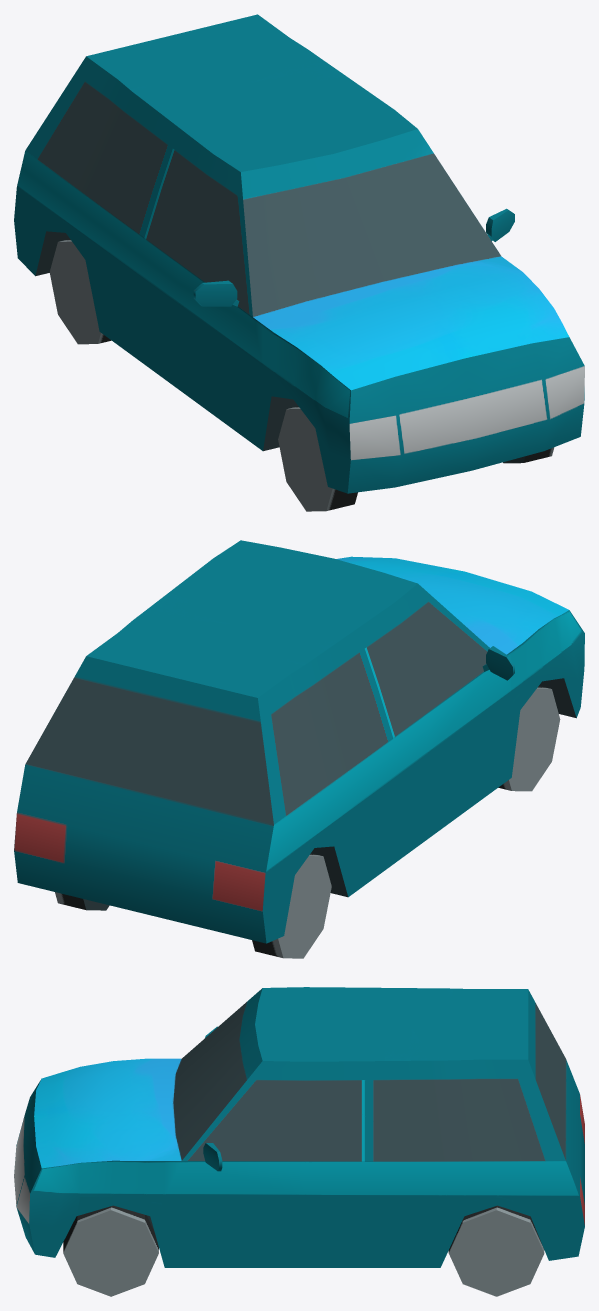
Rendered from BlueCar.fbx.
3 views of the same model, one above another, from view 1: azimuth 30°, elevation 25°; view 2: azimuth 150°, elevation 25°; view 3: azimuth 270°, elevation 25° (orthographic). The views are drawn at different scales.
Visible parts, largest first — view 1: Body, wheels; view 2: Body, wheels; view 3: Body, wheels.
Part boxes in pixels (left/top/right/bottom): Body: left=14, top=14, right=584, bottom=493; wheels: left=49, top=239, right=554, bottom=511; Body: left=14, top=540, right=584, bottom=943; wheels: left=55, top=686, right=560, bottom=958; Body: left=14, top=987, right=584, bottom=1267; wheels: left=63, top=1205, right=544, bottom=1296.
Size of the model in its own units: 42.11 by 33.75 by 77.29.
